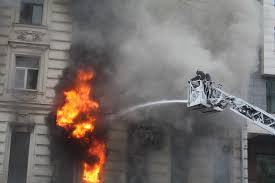fire: (47, 58, 135, 183)
